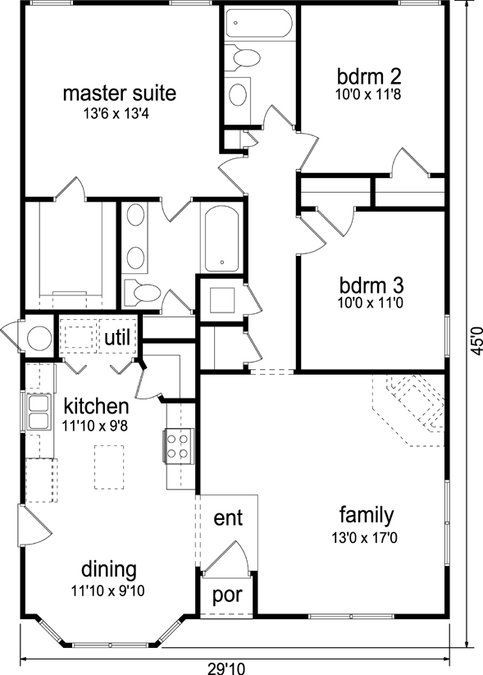door: (18, 504, 64, 554), (205, 537, 247, 577), (299, 214, 328, 257), (216, 157, 246, 196), (316, 207, 358, 232), (160, 285, 191, 317), (388, 145, 421, 175), (295, 129, 317, 169), (56, 177, 93, 200), (2, 319, 24, 354), (261, 104, 291, 129), (244, 281, 263, 314), (245, 329, 261, 368), (137, 372, 157, 400)
room: (205, 382, 439, 609), (29, 7, 221, 194), (26, 361, 194, 507), (305, 9, 446, 177), (302, 211, 444, 369), (27, 509, 202, 623), (226, 7, 299, 128)
wall: (19, 1, 28, 315), (194, 274, 202, 495), (439, 214, 453, 317), (444, 1, 452, 172), (301, 367, 450, 376), (299, 168, 391, 181), (294, 253, 304, 371), (210, 1, 403, 7), (24, 307, 156, 315), (194, 343, 202, 475), (218, 6, 225, 150), (358, 203, 449, 214), (296, 6, 303, 130), (241, 199, 251, 279), (444, 374, 451, 482), (86, 194, 157, 204), (19, 544, 28, 617), (118, 203, 124, 305), (143, 337, 204, 347), (442, 567, 453, 616), (396, 611, 454, 620), (194, 566, 204, 617), (191, 194, 247, 203), (201, 318, 246, 329), (51, 313, 61, 362), (20, 432, 27, 501), (251, 571, 261, 619), (76, 1, 171, 6), (135, 314, 144, 362), (197, 270, 244, 279), (256, 613, 308, 621), (22, 190, 56, 202), (199, 369, 250, 377), (294, 178, 304, 214), (164, 394, 196, 404), (368, 177, 377, 207), (18, 359, 26, 389), (24, 352, 43, 360), (427, 172, 446, 178), (224, 124, 260, 127)
window: (314, 610, 391, 622), (442, 484, 453, 563), (74, 640, 148, 649), (443, 317, 453, 354), (172, 2, 207, 10), (31, 1, 61, 5)
